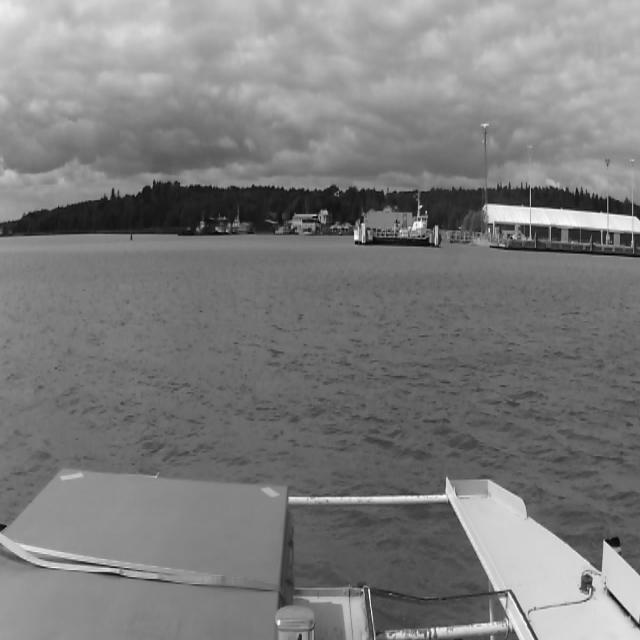buoy: (130, 231, 132, 240)
ship: (180, 220, 206, 237), (207, 218, 231, 235), (232, 220, 250, 236)
